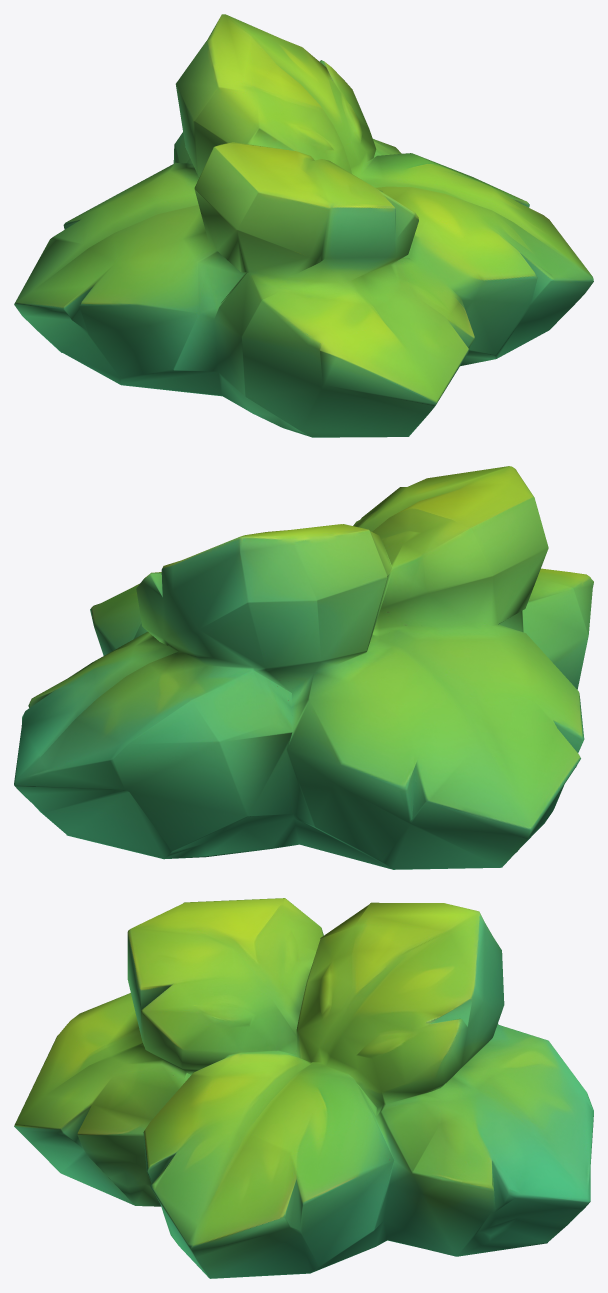
The model's file is tripo_raw.glb.
3 views of the same model, one above another, from view 1: azimuth 30°, elevation 25°; view 2: azimuth 150°, elevation 25°; view 3: azimuth 270°, elevation 25° (orthographic). The views are drawn at different scales.
Parts seen in each view (by area): view 1: tripo_node_d45da2eb-039d-4aa6-aa02-98f01839d3fa; view 2: tripo_node_d45da2eb-039d-4aa6-aa02-98f01839d3fa; view 3: tripo_node_d45da2eb-039d-4aa6-aa02-98f01839d3fa.
Part boxes in pixels (bbox=[...]): tripo_node_d45da2eb-039d-4aa6-aa02-98f01839d3fa: bbox=[14, 14, 593, 437]; tripo_node_d45da2eb-039d-4aa6-aa02-98f01839d3fa: bbox=[14, 466, 593, 869]; tripo_node_d45da2eb-039d-4aa6-aa02-98f01839d3fa: bbox=[14, 898, 593, 1278].
Bounding box in the file's own units: 0.9315 × 0.5166 × 1.
Materials: 1 (1 with a texture image).
